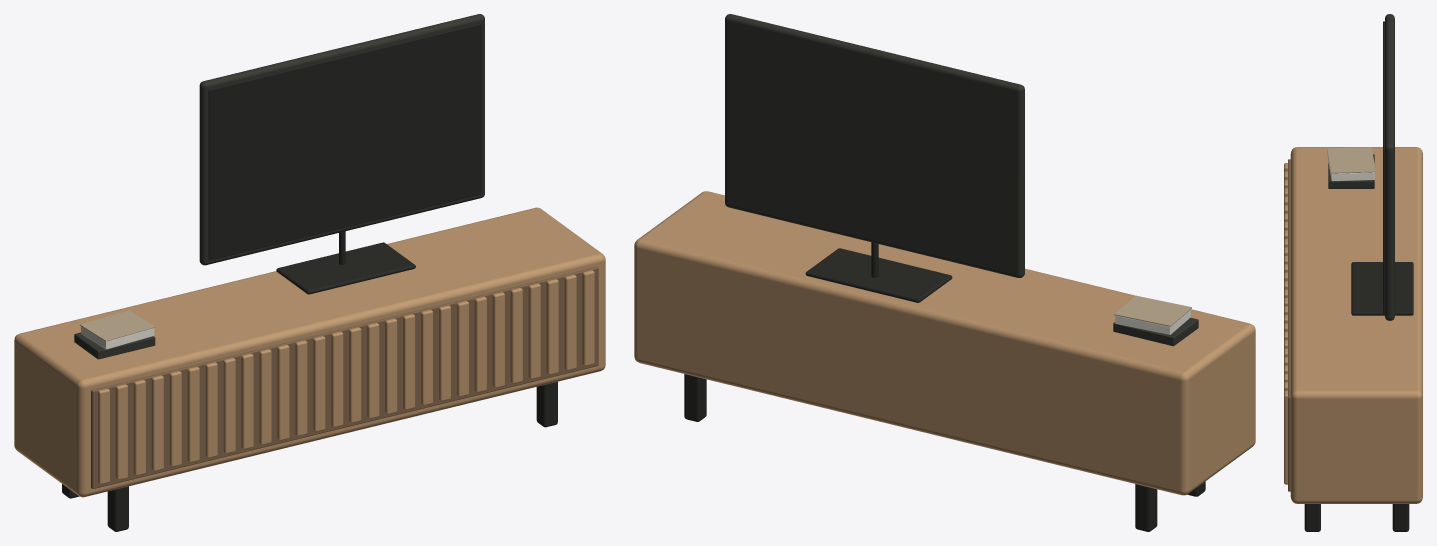
File: mediaConsole.glb
3 renders of one model, left to right at view 1: azimuth 30°, elevation 25°; view 2: azimuth 150°, elevation 25°; view 3: azimuth 270°, elevation 25°, orthographic. The views are drawn at different scales.
Visible parts, largest first — view 1: studio/oak, studio/black, studio/oakDark, studio/charcoal, studio/sand; view 2: studio/oak, studio/charcoal, studio/black, studio/sand; view 3: studio/oak, studio/black, studio/charcoal, studio/sand, studio/oakDark, studio/cream.
Part boxes in pixels (x1,y1,x2,y2): studio/oak: (14,207,605,497); studio/black: (62,23,557,531); studio/oakDark: (91,267,598,488); studio/charcoal: (74,14,484,359); studio/sand: (80,310,155,341); studio/oak: (634,191,1255,495); studio/charcoal: (725,14,1198,346); studio/black: (684,242,1205,531); studio/sand: (1114,295,1191,326); studio/oak: (1284,147,1422,503); studio/black: (1304,21,1413,531); studio/charcoal: (1328,14,1394,320); studio/sand: (1327,147,1375,173); studio/oakDark: (1288,159,1290,491); studio/cream: (1327,155,1374,181).
Bounding box in the file's own units: 1.6 × 1.12 × 0.3785.
